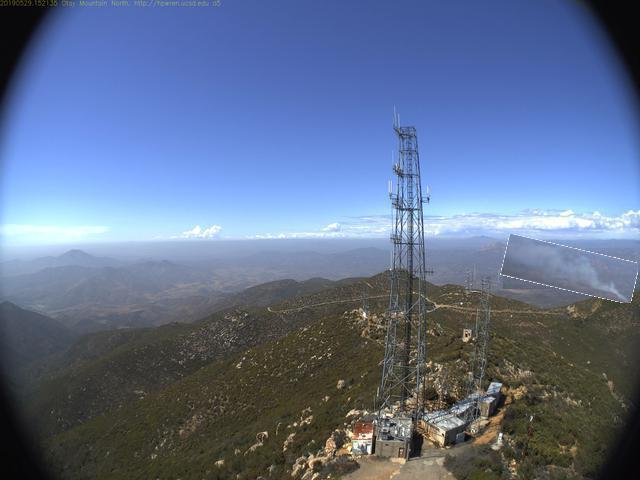smoke: (503, 242, 639, 298)
